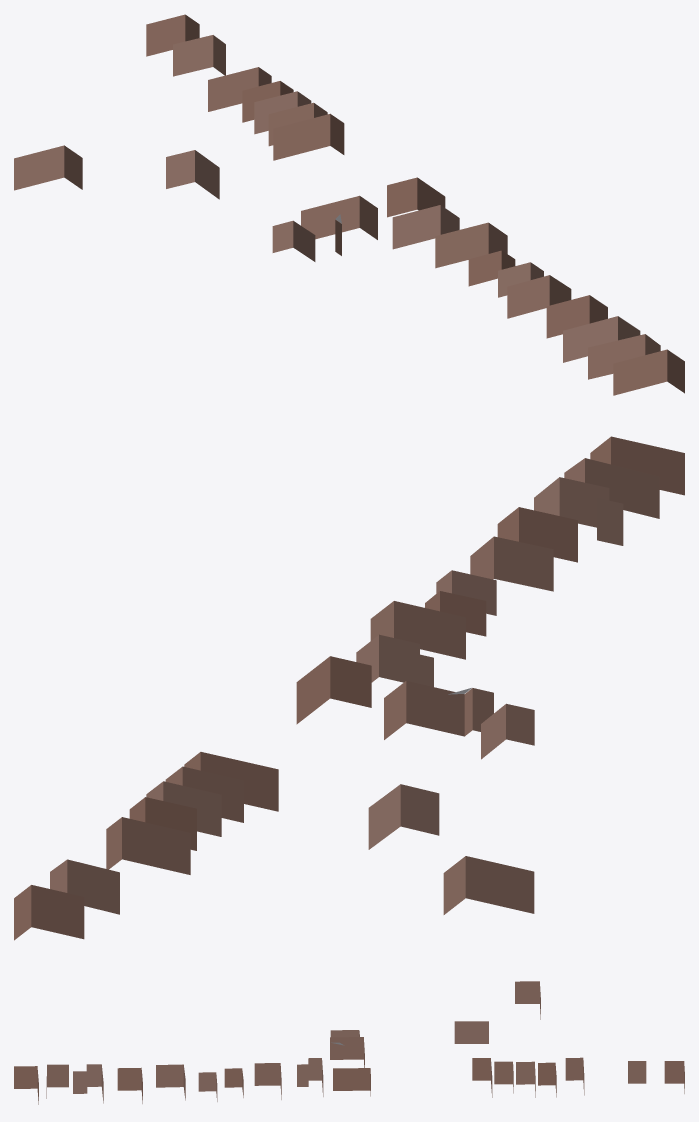
The model's file is c_1632_17823_buildings_residential.glb.
3 views of the same model, one above another, from view 1: azimuth 30°, elevation 25°; view 2: azimuth 150°, elevation 25°; view 3: azimuth 270°, elevation 25° (orthographic). The views are drawn at different scales.
Visible parts, largest first — view 1: geometry_0; view 2: geometry_0; view 3: geometry_0.
Boxes of the visible parts, x1,y1,x2,y2 form: geometry_0: [14, 14, 684, 395]; geometry_0: [14, 436, 684, 940]; geometry_0: [14, 981, 684, 1104].
Bounding box in the file's own units: 92.08 × 10.76 × 256.
